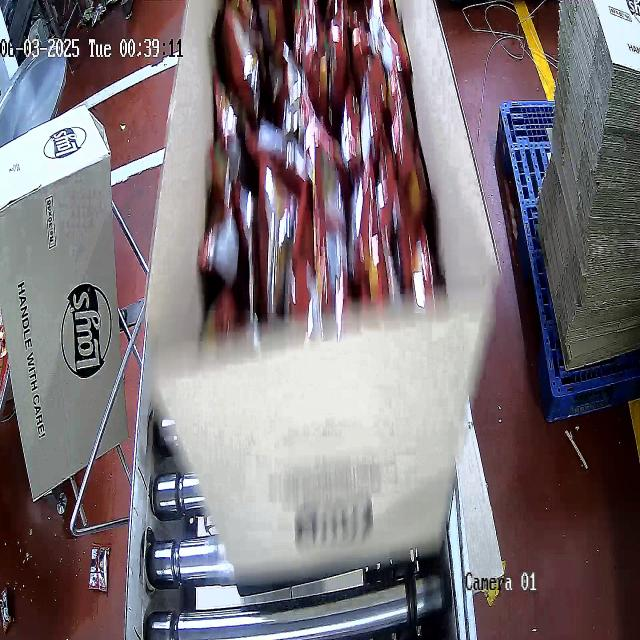MASALA: (211, 0, 439, 319)
